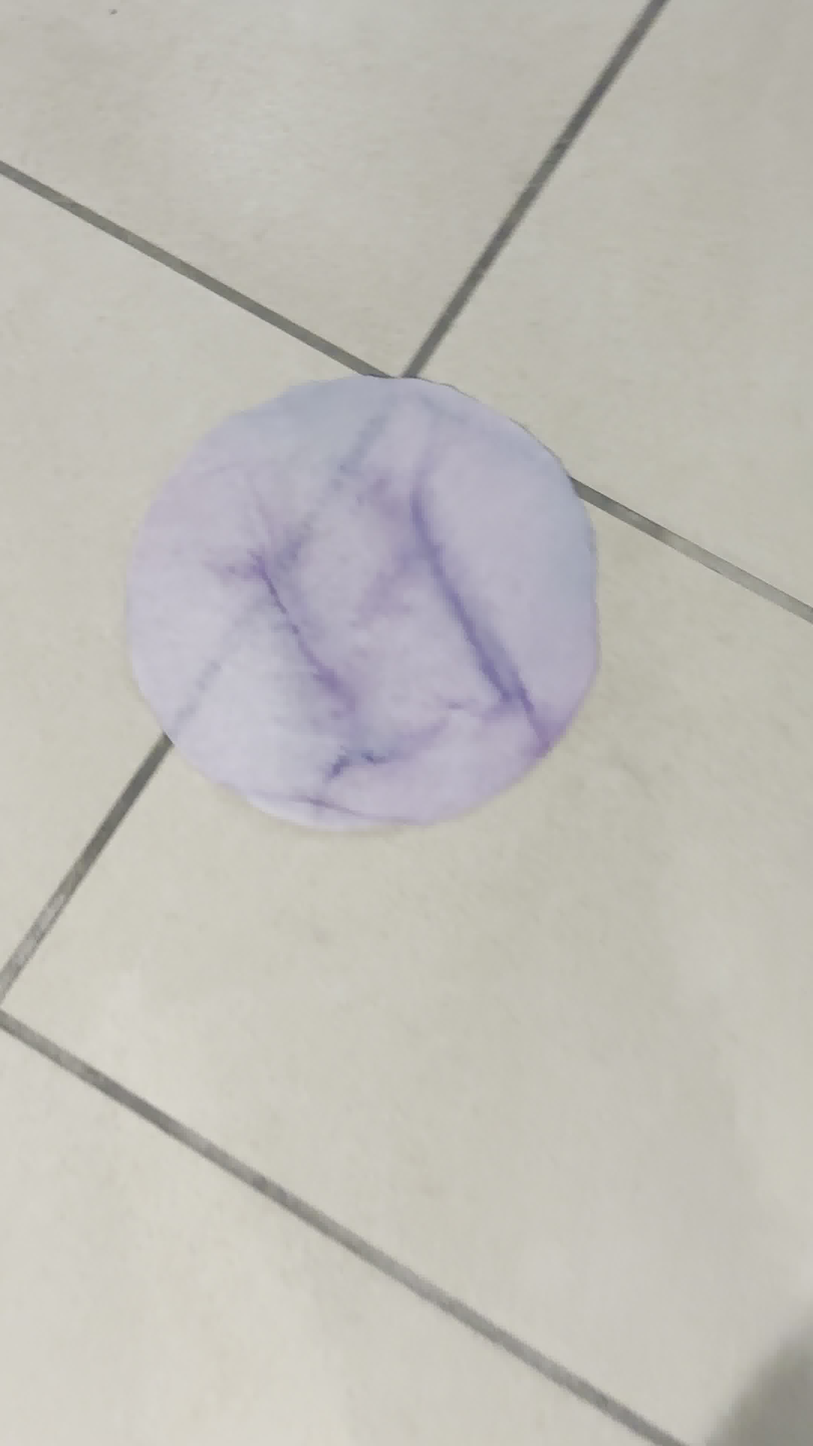Target: (126, 374, 599, 839)
